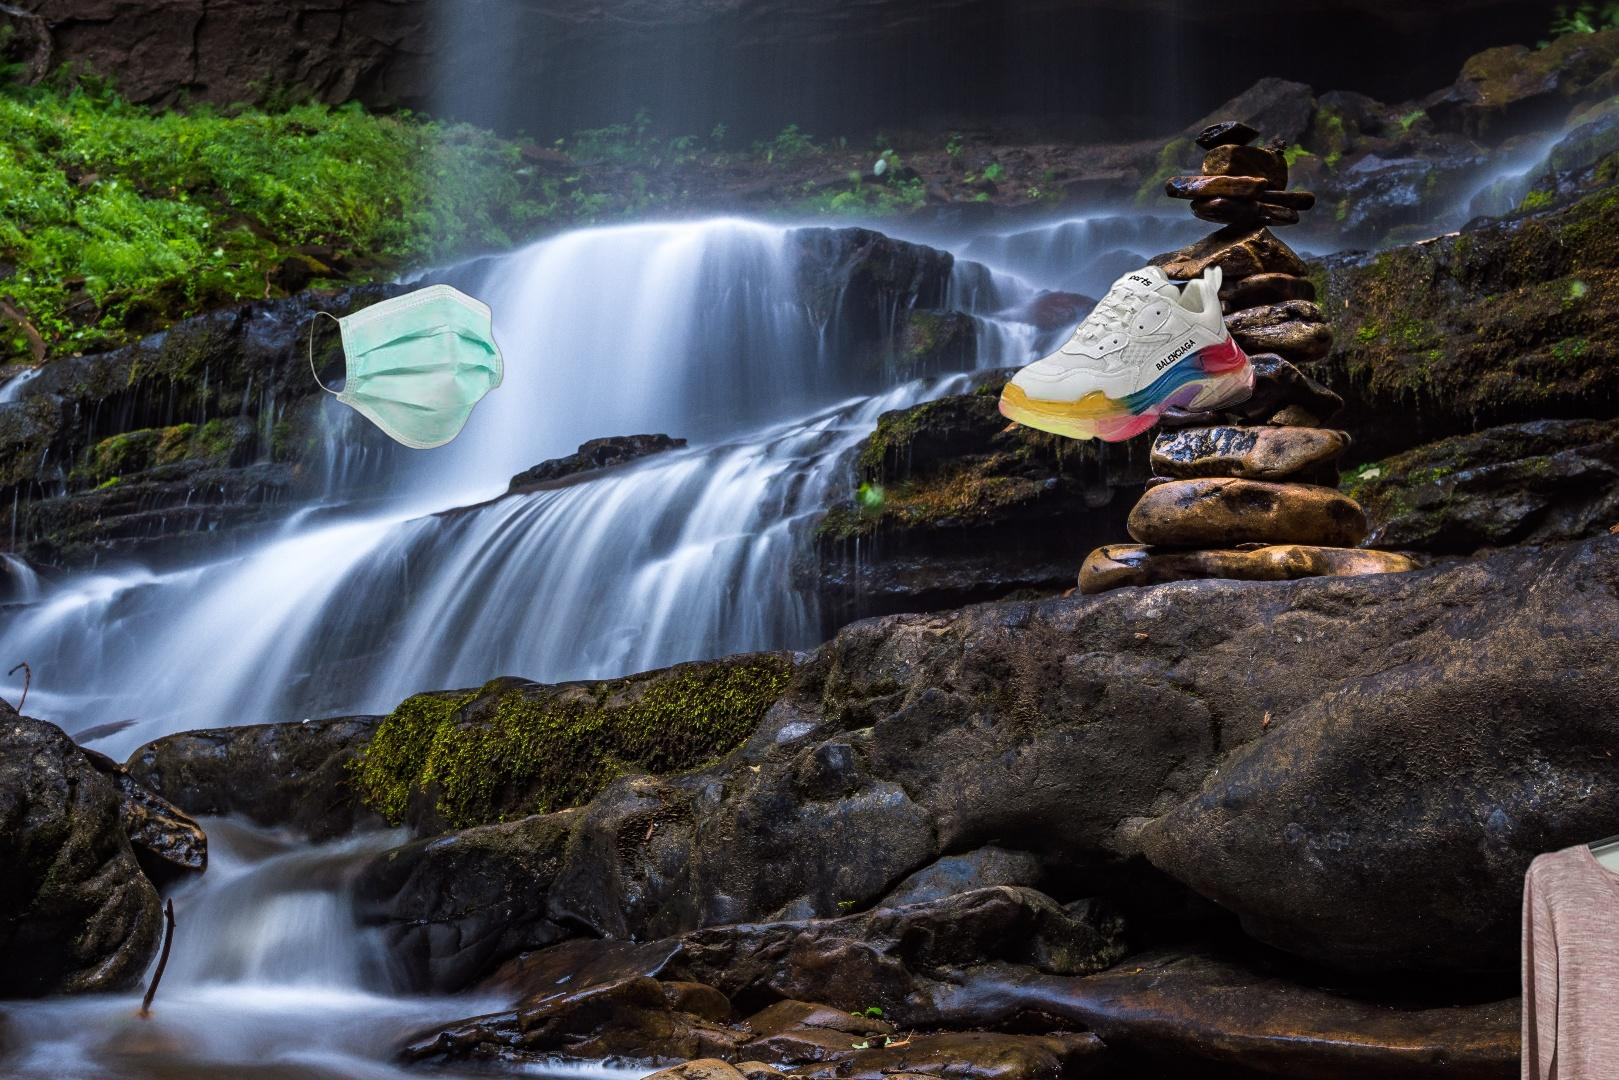clothes: (1517, 797, 1619, 1080)
shoes: (996, 263, 1259, 450)
trash: (307, 281, 508, 452)
